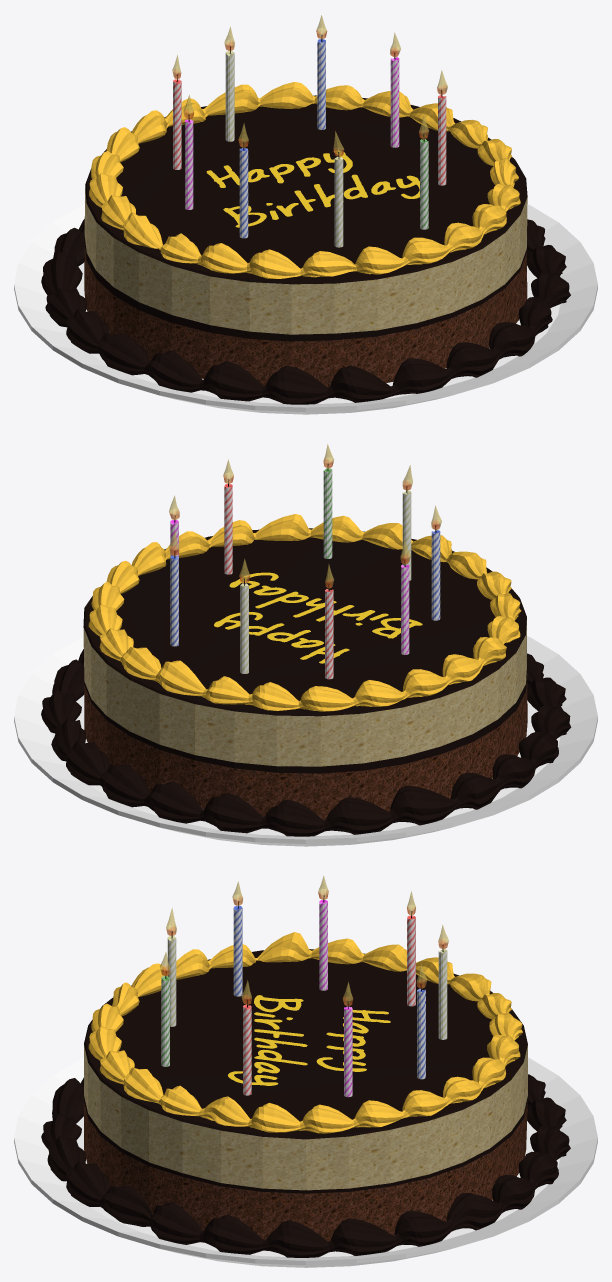
Rendered from birthday_cake.obj.
The picture shows the model from 3 angles, top to bottom: view 1: azimuth 30°, elevation 25°; view 2: azimuth 150°, elevation 25°; view 3: azimuth 270°, elevation 25°; orthographic projection.
Visible parts, largest first — view 1: cake_Cylinder, cream_Circle.001, yellow-cream_Circle, dish_Cylinder.028, Plane, candle3_Cylinder.006, candle6_Cylinder.024, candle7_Cylinder.019, candle_Cylinder.012, candle5_Cylinder.025, candle2_Cylinder.007, candle4_Cylinder.001 (+2 smaller); view 2: cake_Cylinder, cream_Circle.001, yellow-cream_Circle, dish_Cylinder.028, Plane, candle8_Cylinder.018, candle6_Cylinder.024, candle9_Cylinder.013, candle2_Cylinder.007, candle3_Cylinder.006, candle5_Cylinder.025, candle4_Cylinder.001 (+1 smaller); view 3: cake_Cylinder, cream_Circle.001, yellow-cream_Circle, dish_Cylinder.028, Plane, candle6_Cylinder.024, candle3_Cylinder.006, candle4_Cylinder.001, candle5_Cylinder.025, candle8_Cylinder.018, candle9_Cylinder.013, candle_Cylinder.012 (+2 smaller).
Part boxes in pixels (x1,y1,x2,y2): cake_Cylinder: (84,95,527,387); cream_Circle.001: (41,219,570,404); yellow-cream_Circle: (89,82,520,278); dish_Cylinder.028: (14,204,597,414); Plane: (206,150,419,227); candle3_Cylinder.006: (225,51,234,141); candle6_Cylinder.024: (239,148,248,238); candle7_Cylinder.019: (334,157,343,247); candle_Cylinder.012: (390,57,399,147); candle5_Cylinder.025: (185,119,193,209); candle2_Cylinder.007: (317,39,325,129); candle4_Cylinder.001: (173,79,181,169); cake_Cylinder: (83,528,527,820); cream_Circle.001: (41,649,571,836); yellow-cream_Circle: (88,514,521,711); dish_Cylinder.028: (14,636,597,846); Plane: (214,572,422,663); candle8_Cylinder.018: (323,468,332,558); candle6_Cylinder.024: (431,530,440,620); candle9_Cylinder.013: (224,483,232,574); candle2_Cylinder.007: (170,555,178,646); candle3_Cylinder.006: (240,583,248,673); candle5_Cylinder.025: (401,564,409,654); candle4_Cylinder.001: (325,589,333,679); cake_Cylinder: (84,949,527,1241); cream_Circle.001: (41,1074,570,1257); yellow-cream_Circle: (88,932,522,1133); dish_Cylinder.028: (14,1057,597,1267); Plane: (228,995,390,1085); candle6_Cylinder.024: (233,905,242,996); candle3_Cylinder.006: (438,949,447,1039); candle4_Cylinder.001: (407,915,415,1006); candle5_Cylinder.025: (319,900,327,990); candle8_Cylinder.018: (161,976,169,1066); candle9_Cylinder.013: (243,1004,251,1095); candle_Cylinder.012: (344,1006,352,1097).
Size of the model in its own units: 2.4 by 1.06 by 2.4.
9 materials, 5 textured.
